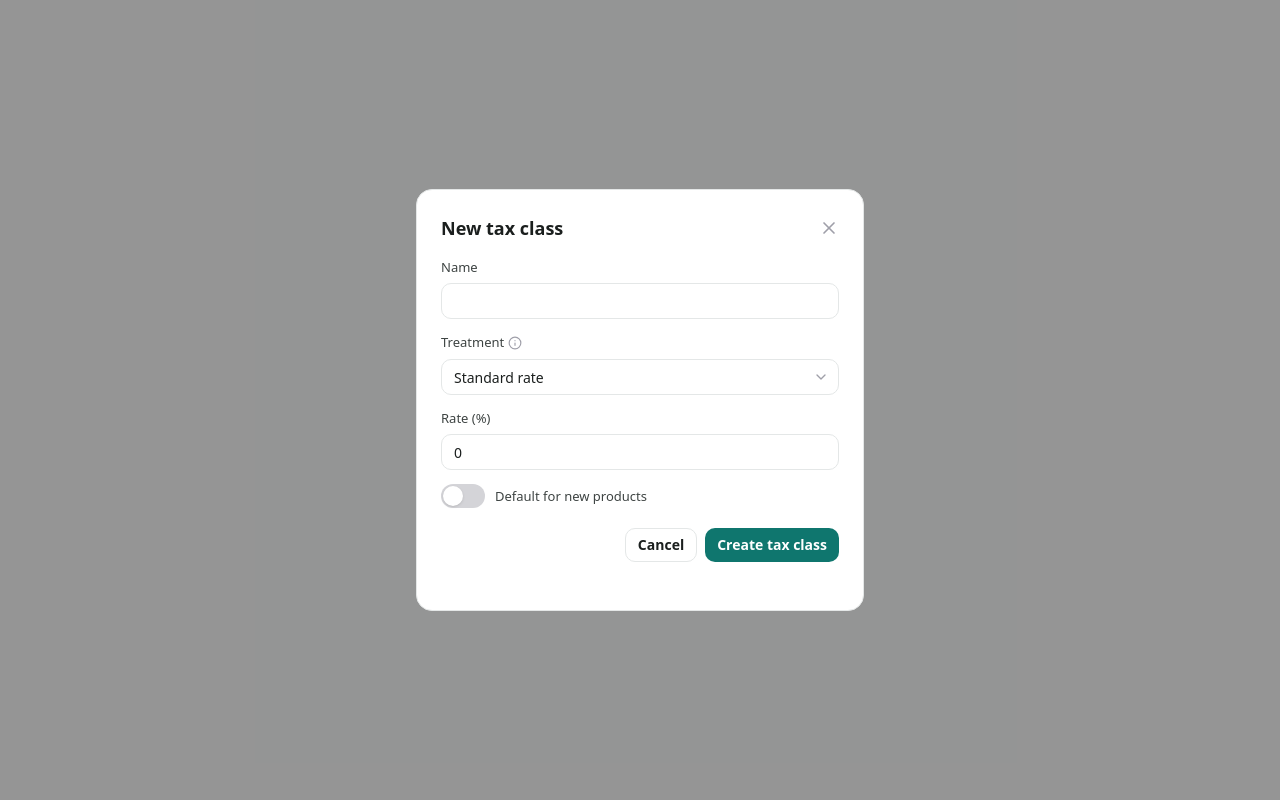
Test case: TaxClassFormModal › treats exempt as a 0% class with no rate input
Select "Exempt" in the dropdown labelled "Treatment" at (640, 377), box [441, 359, 839, 395]
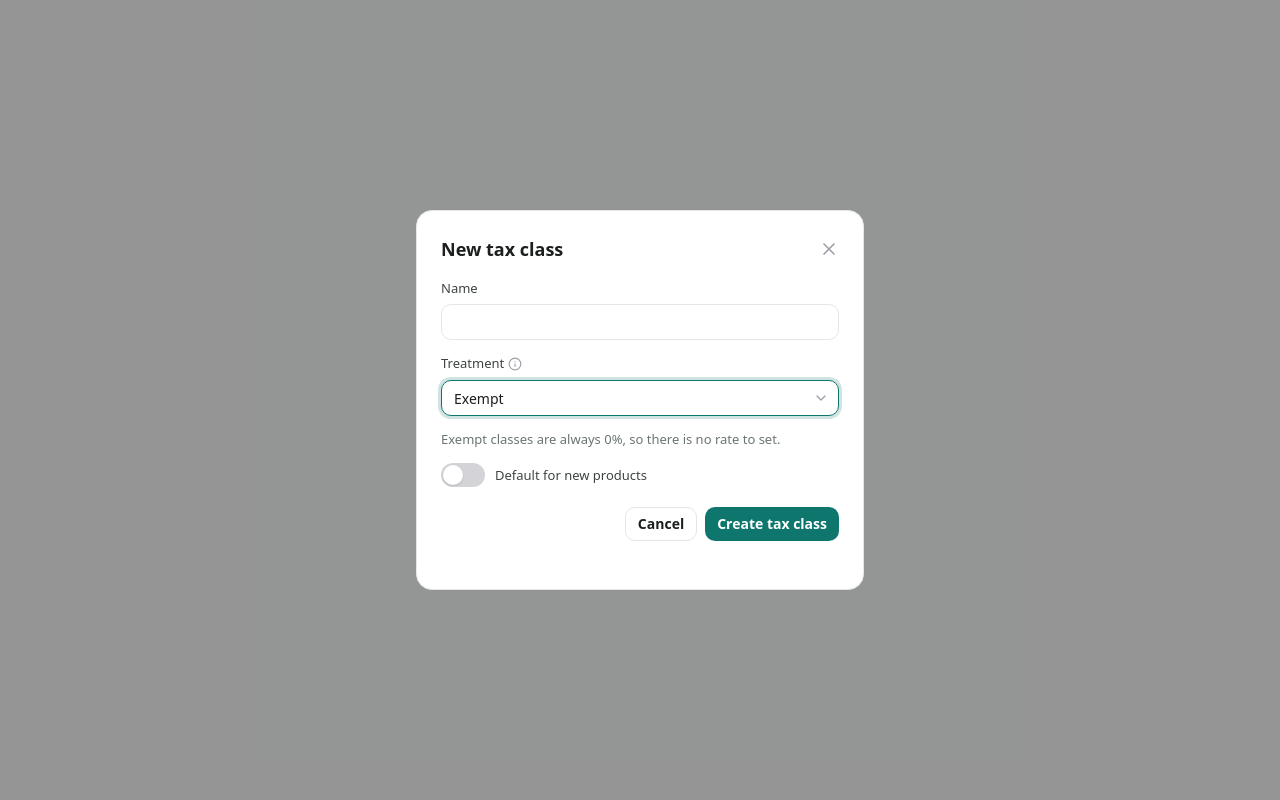
Check: the label labelled "Rate (%)" is gone
Check: the text "Exempt classes are always 0%, so there is no rate to set." is shown, box [441, 430, 839, 449]
